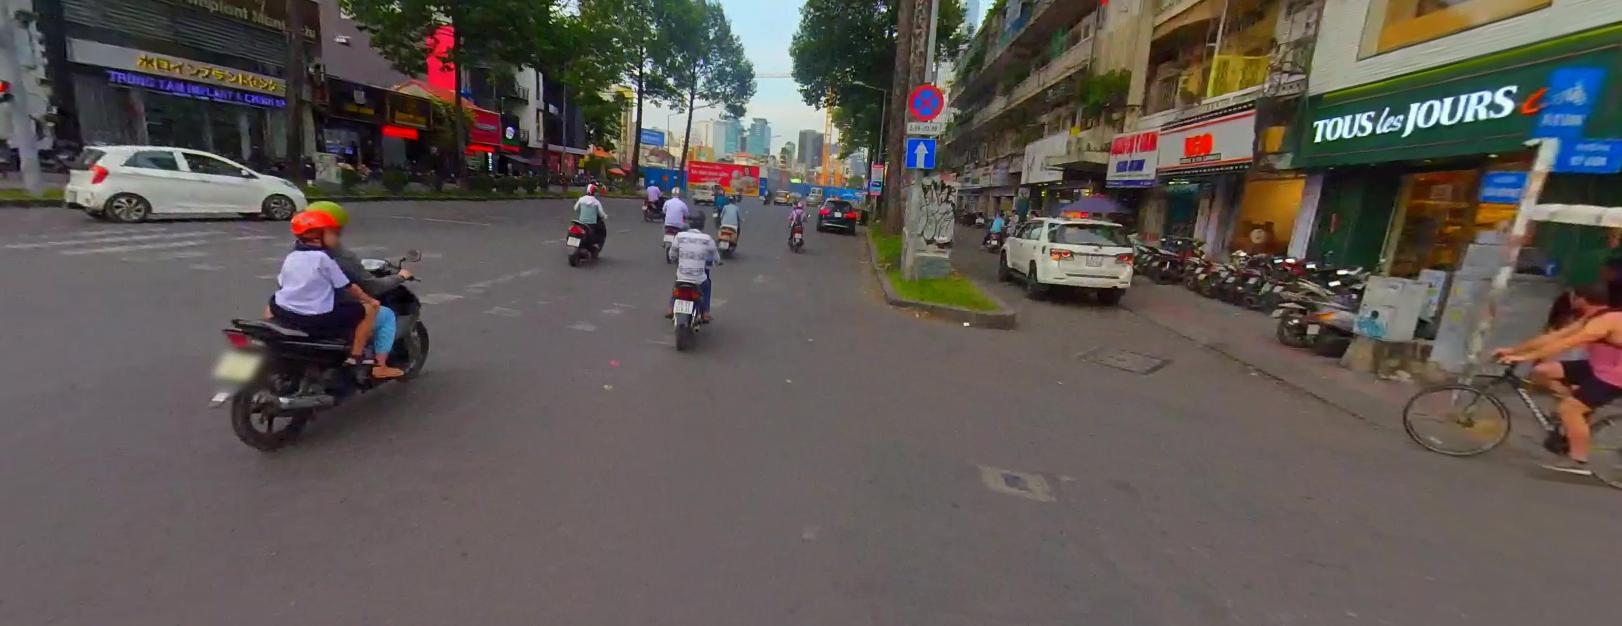Cam dung va do: (907, 79, 944, 121)
